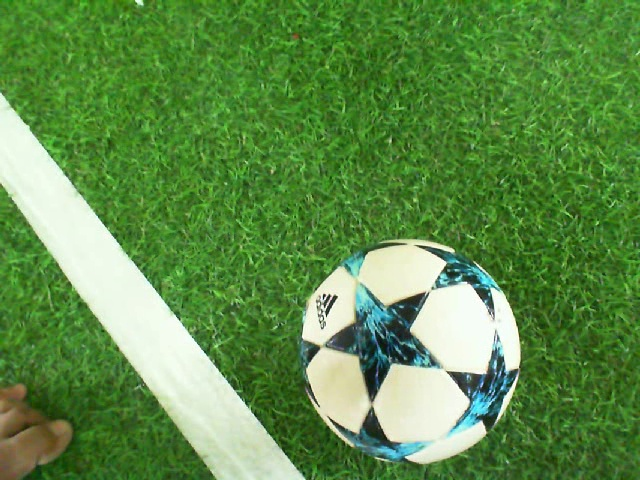ball: (298, 236, 525, 468)
